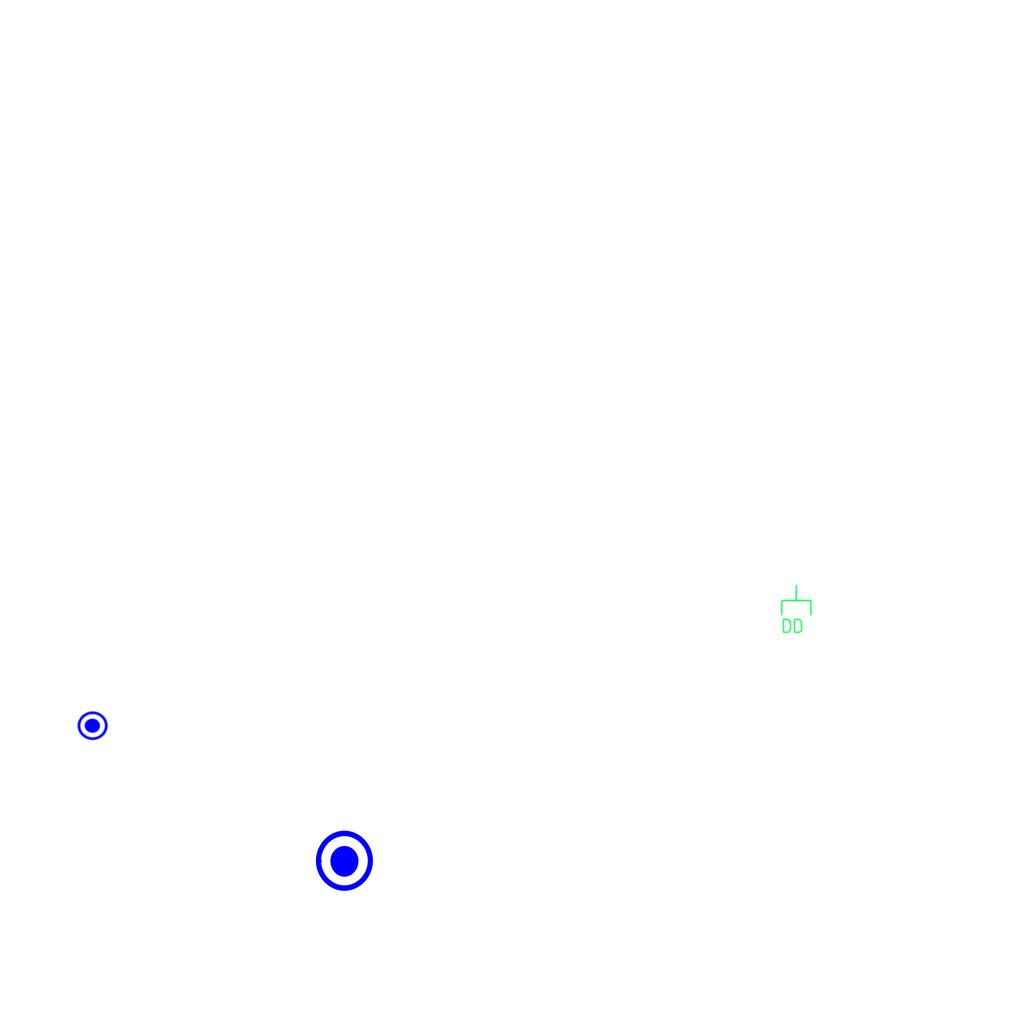Datenanschluss_zweifach: (779, 584, 813, 635)
Taster: (309, 828, 375, 894), (76, 708, 109, 741)
